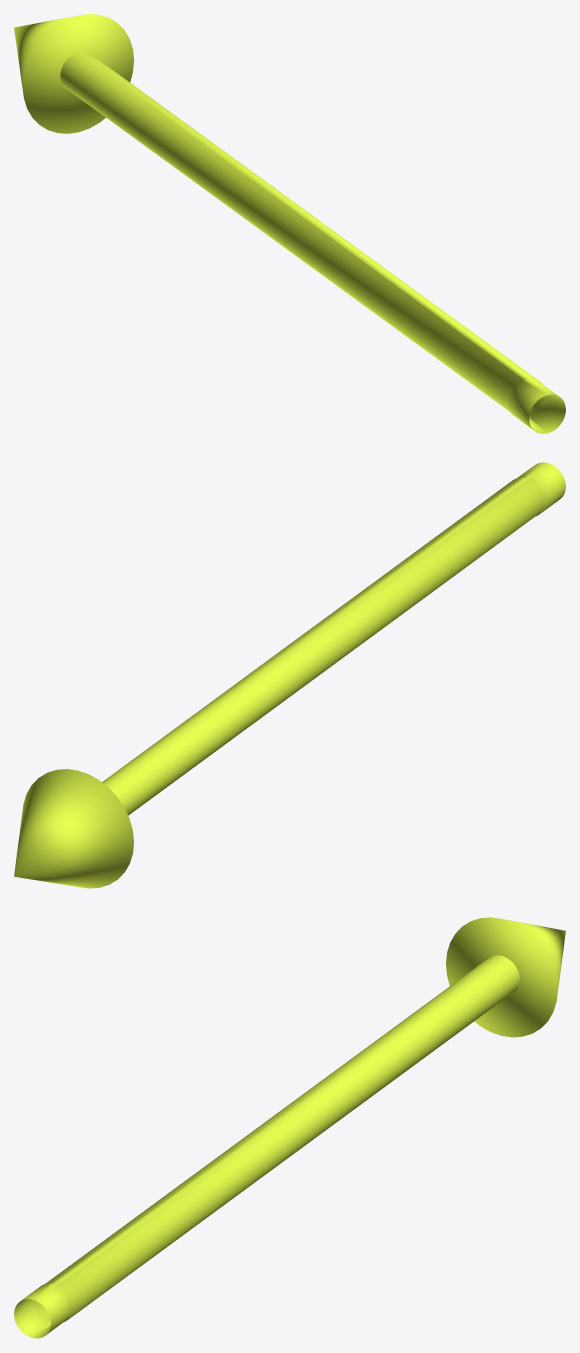
The model's file is yellow_arrow.dae.
3 renders of one model, top to bottom at view 1: azimuth 30°, elevation 25°; view 2: azimuth 150°, elevation 25°; view 3: azimuth 330°, elevation 25°, orthographic.
Visible parts, largest first — view 1: Tube_004, Cone_002; view 2: Tube_004, Cone_002; view 3: Tube_004, Cone_002.
Part boxes in pixels (<box>): Tube_004: <box>60,51,565,433</box>; Cone_002: <box>14,14,133,133</box>; Tube_004: <box>102,462,565,815</box>; Cone_002: <box>14,769,133,888</box>; Tube_004: <box>14,955,519,1338</box>; Cone_002: <box>446,917,565,1037</box>.
Size of the model in its own units: 0.3522 by 2.92 by 0.3522.
